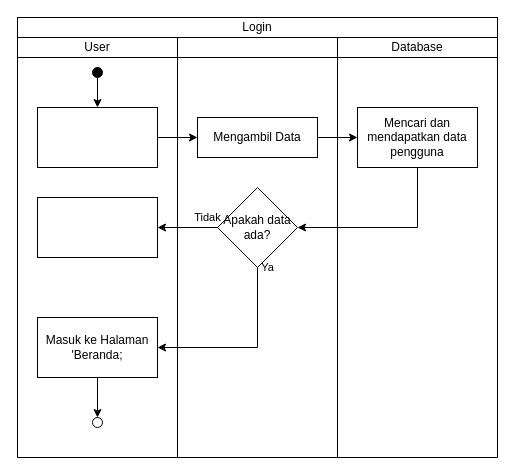
The diagram is 517 pixels wide and 476 high, and some of its shapes have lost their labels. Each missing label, with the box of its shape:
Kembali ke halaman 'Login dan Registrasi': (36, 196, 158, 258)
Masukkan 'Nama Pengguna' dan 'Kata Sandi': (36, 106, 158, 168)
Sistem: (176, 36, 338, 58)
